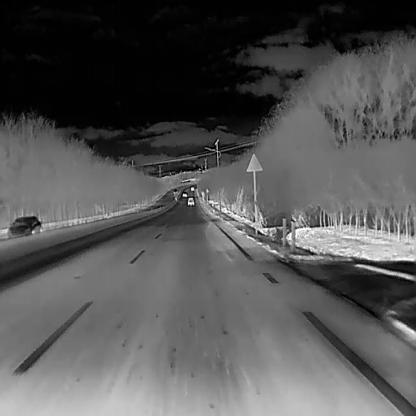car: (5, 216, 42, 237), (187, 196, 195, 205)
